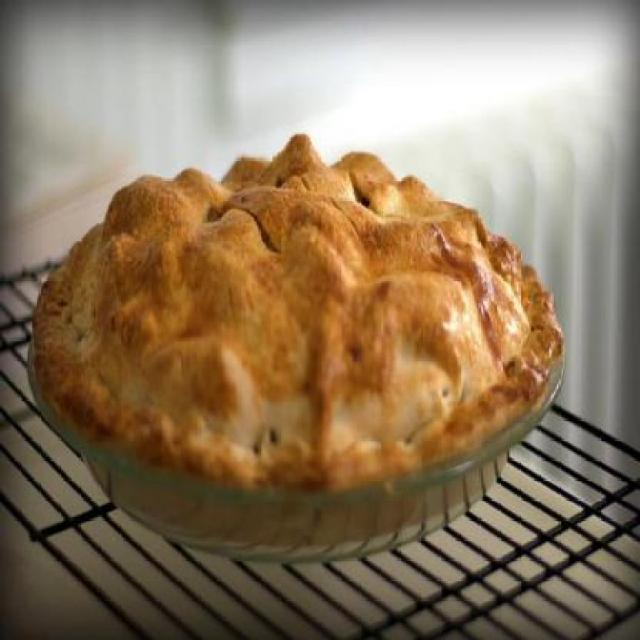Apple: (35, 144, 568, 538)
